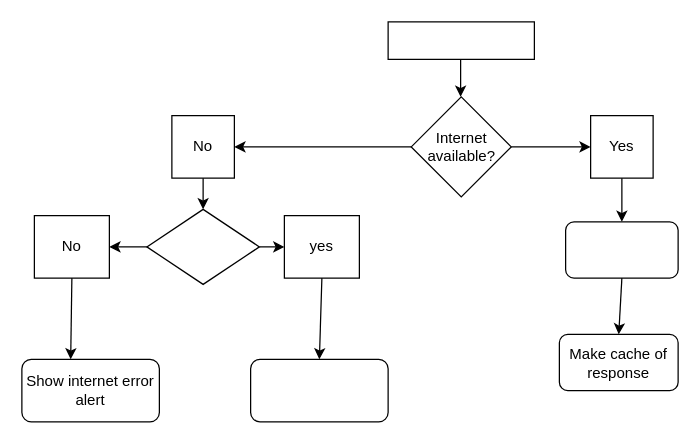
Image size: 700x444. Some labels were removed from this diagram. The shapes that lost their labels are listed below. From the top down, each one's centre as x and y in pixels, then its label:
(x=460, y=40): App Launch
(x=202, y=246): Cache available?
(x=621, y=249): Make api call and display record
(x=318, y=390): Display data from cache
